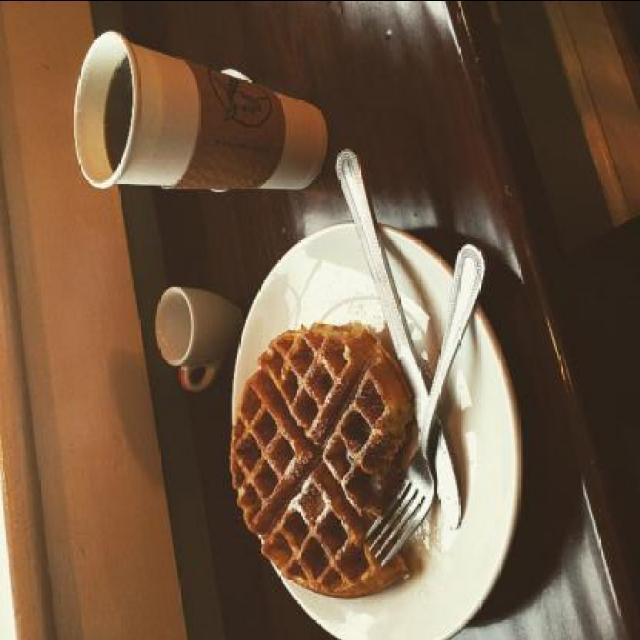Waffle: (223, 325, 415, 603)
